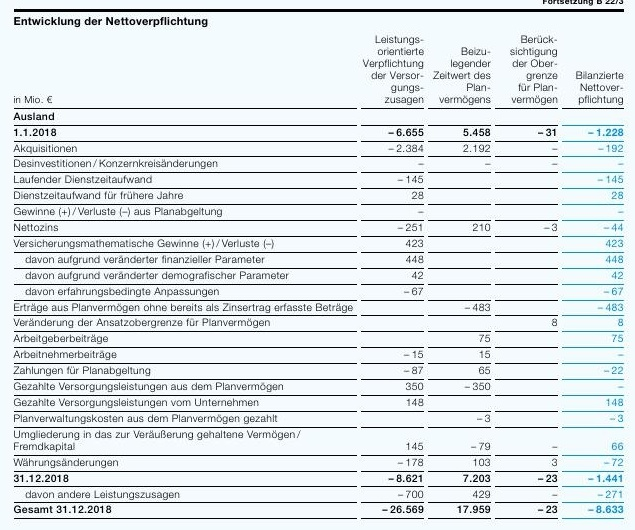table: (0, 0, 635, 530)
